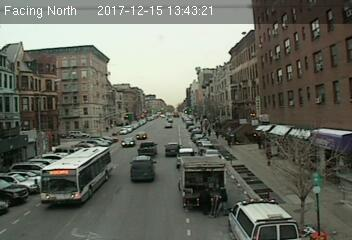bus: (36, 146, 115, 209)
car: (128, 156, 155, 182), (176, 147, 196, 168), (137, 141, 156, 157), (164, 142, 180, 155), (121, 138, 135, 147)
police: (225, 197, 300, 240)
truck: (178, 153, 226, 210)
